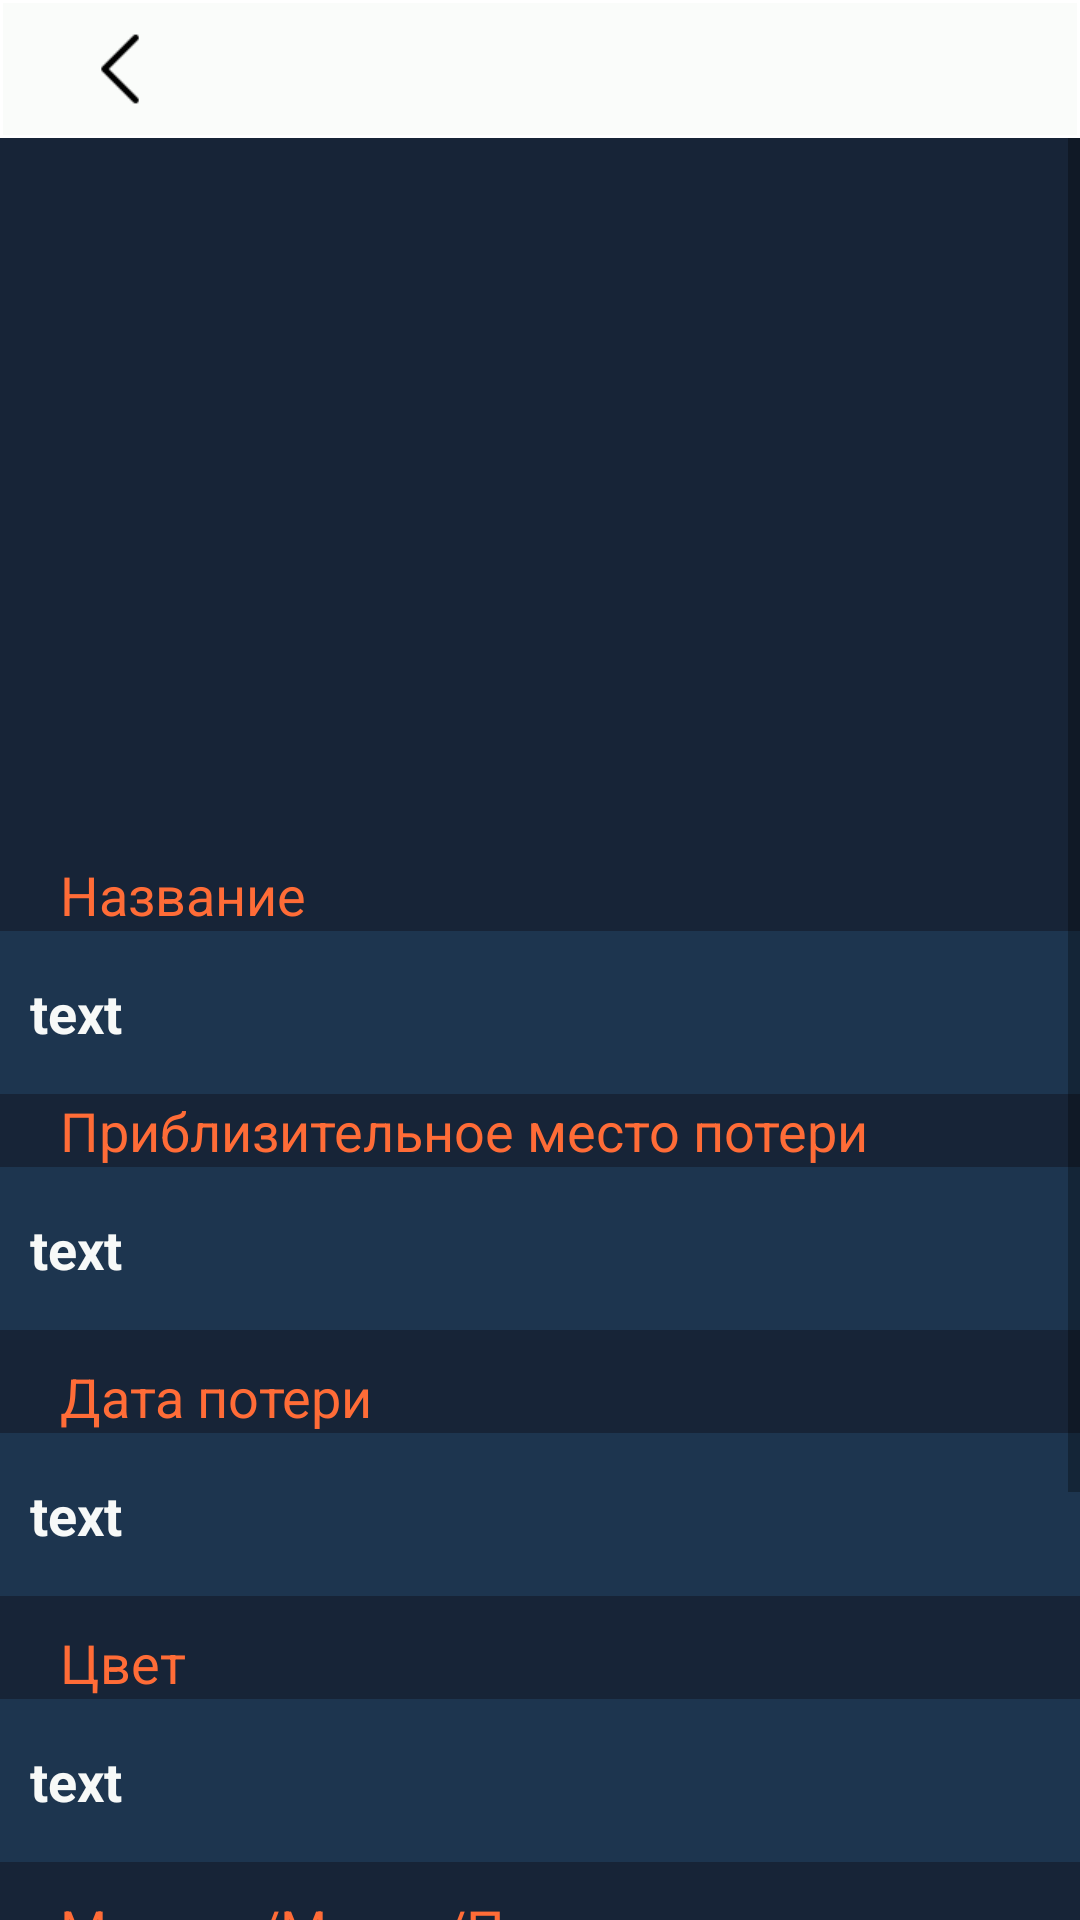

Where icons sit on this 1080px x 1920px app screen, as {"left": x1, "top": y1, "right": x2, "bottom": y2}:
searchwallet back: {"left": 101, "top": 34, "right": 139, "bottom": 104}
